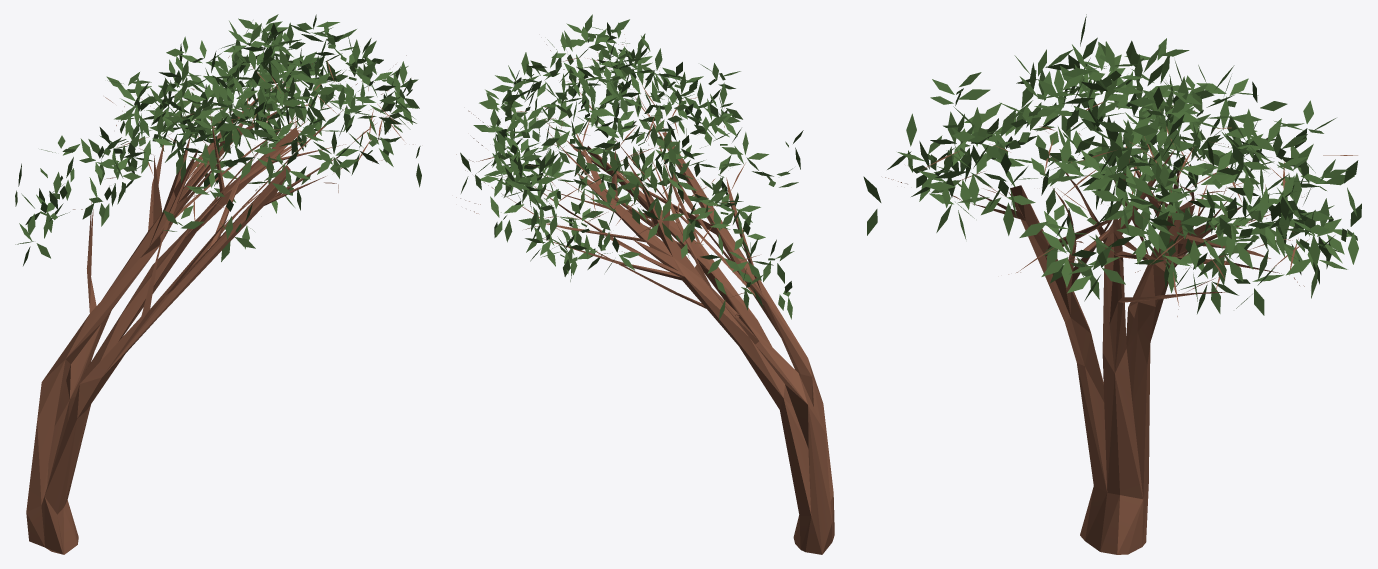
File: ArbousierCanopee_2_Niveau2.fbx
The picture shows the model from 3 angles, left to right: view 1: azimuth 30°, elevation 25°; view 2: azimuth 150°, elevation 25°; view 3: azimuth 270°, elevation 25°; orthographic projection. The views are drawn at different scales.
Parts seen in each view (by area): view 1: ArbousierCanopee_2_Niveau2; view 2: ArbousierCanopee_2_Niveau2; view 3: ArbousierCanopee_2_Niveau2.
Part boxes in pixels (x1,y1,x2,y2): ArbousierCanopee_2_Niveau2: (15,14,421,554); ArbousierCanopee_2_Niveau2: (456,14,834,554); ArbousierCanopee_2_Niveau2: (863,14,1361,554).
Size of the model in its own units: 306 by 359 by 253.
